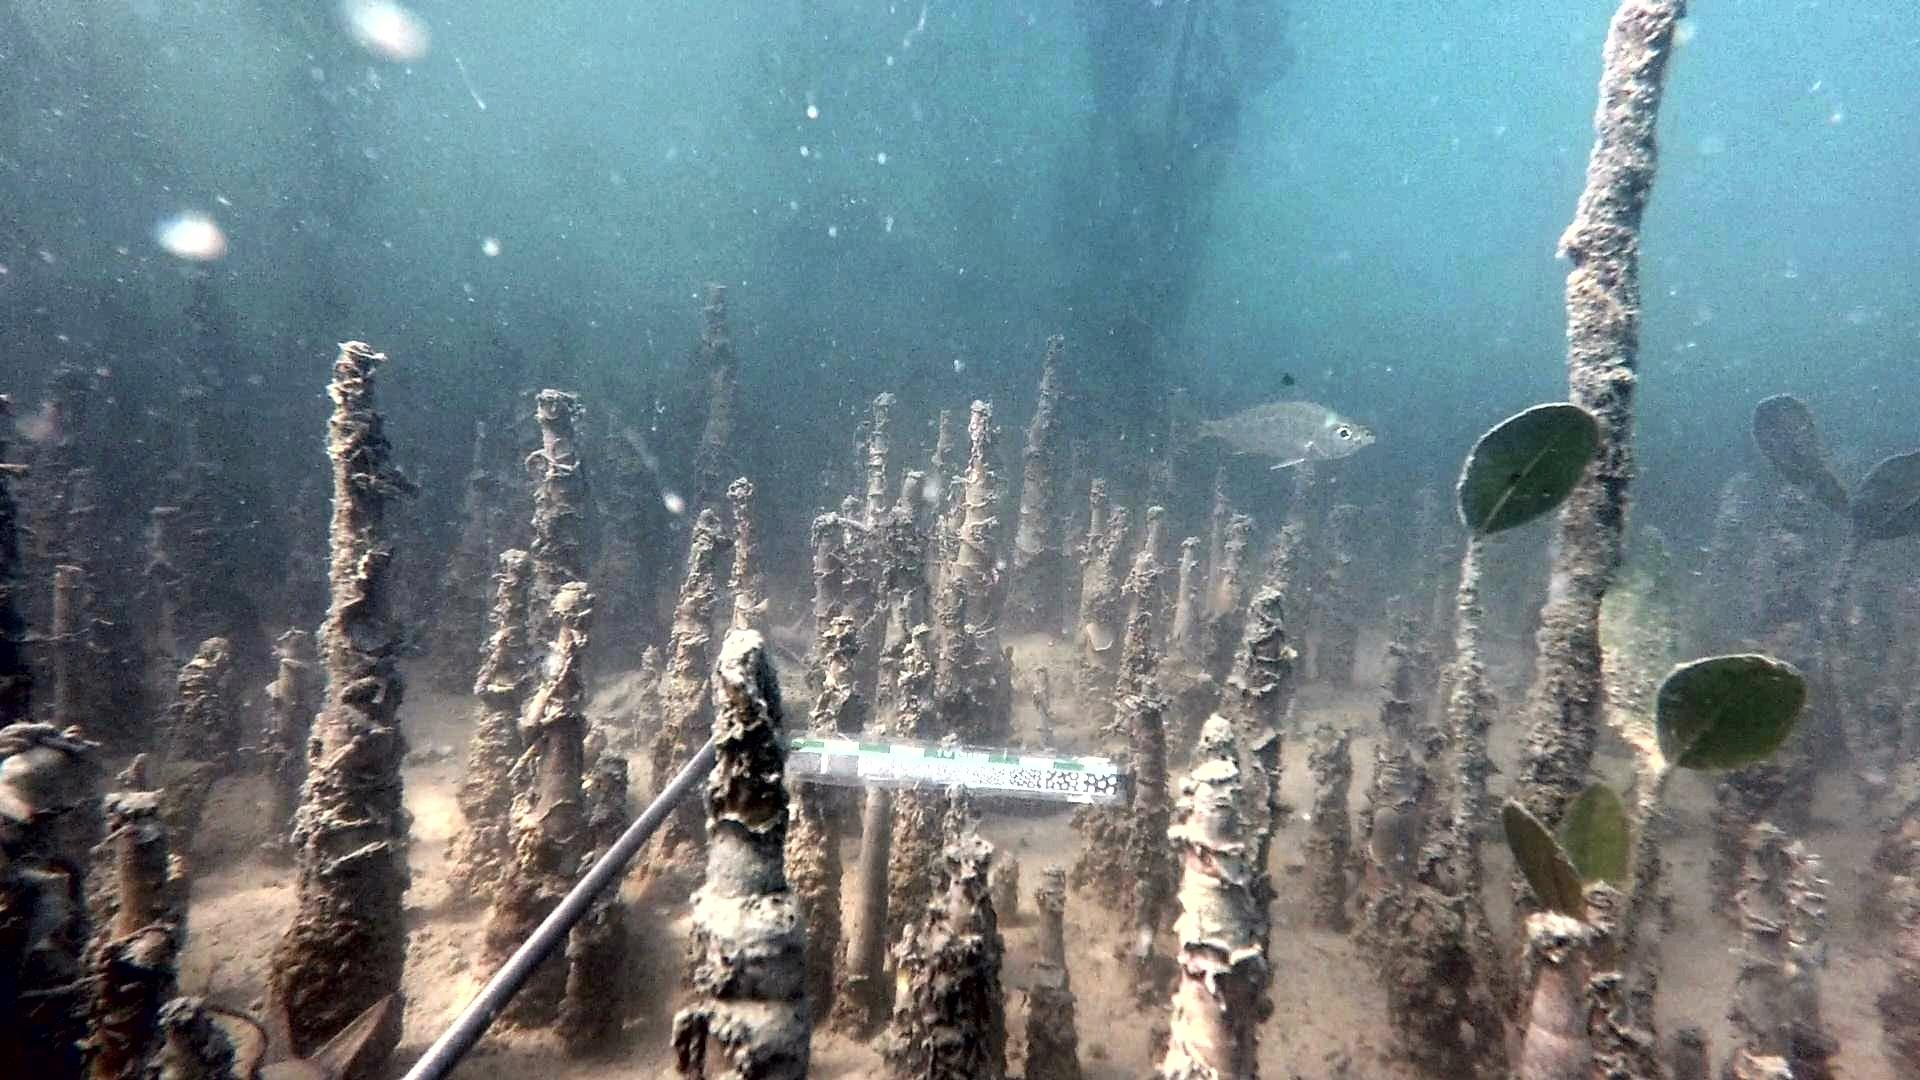gerres: (1172, 372, 1377, 469)
